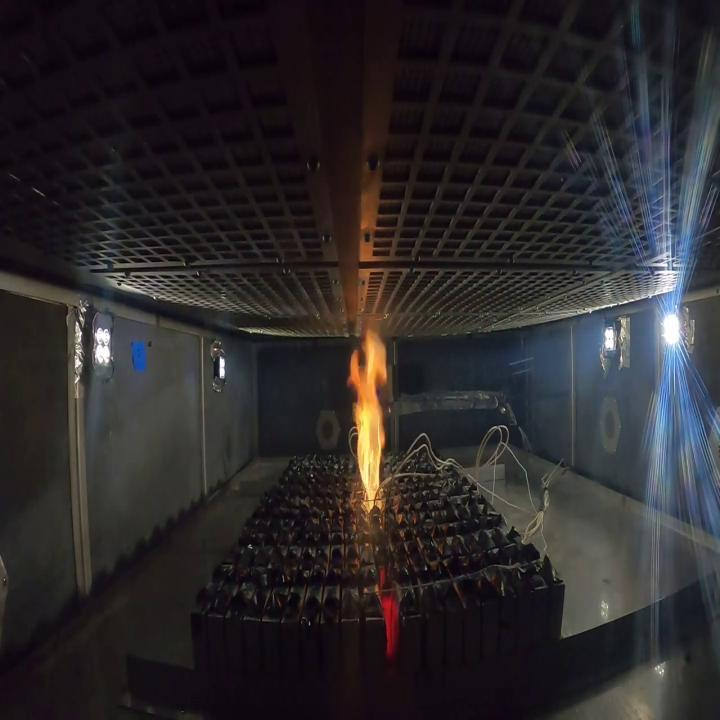fire: (347, 322, 392, 506)
